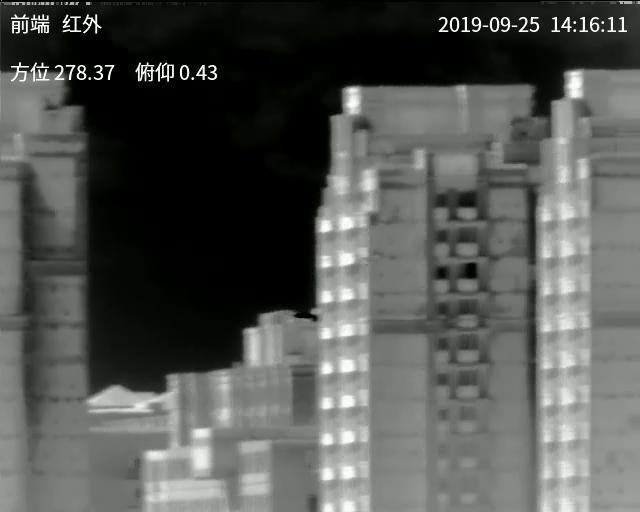uav: (358, 251, 382, 276)
